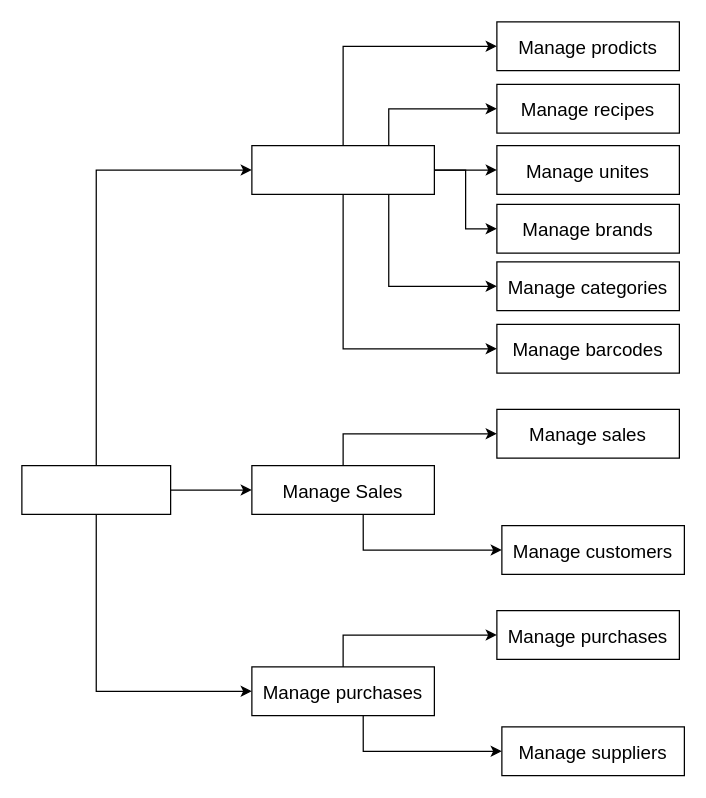
This 706x798 diagram has some shape labels left out. Here are the shapes that lost their labels. From the top down, the centre of each, then its label:
At (342,169): "Manage inventory".
At (96,489): "Dawnware".
